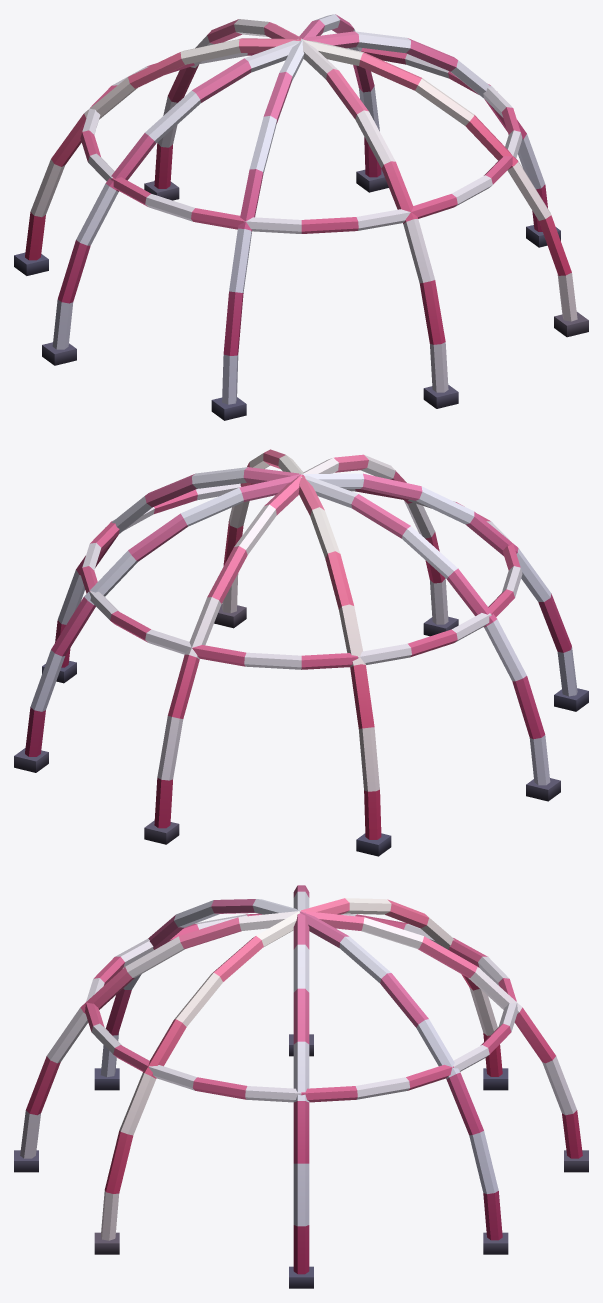
The model's file is PlayGround_Kit_Dome_CandyCane.fbx.
3 renders of one model, top to bottom at view 1: azimuth 30°, elevation 25°; view 2: azimuth 150°, elevation 25°; view 3: azimuth 270°, elevation 25°, orthographic.
Parts seen in each view (by area): view 1: PlayGround_Kit_Dome_CandyCane; view 2: PlayGround_Kit_Dome_CandyCane; view 3: PlayGround_Kit_Dome_CandyCane.
Part boxes in pixels (box(x1,y1,x2,y2)): PlayGround_Kit_Dome_CandyCane: box(14, 14, 588, 420); PlayGround_Kit_Dome_CandyCane: box(14, 449, 588, 856); PlayGround_Kit_Dome_CandyCane: box(14, 885, 588, 1288).
Size of the model in its own units: 3.66 by 1.81 by 3.66.
